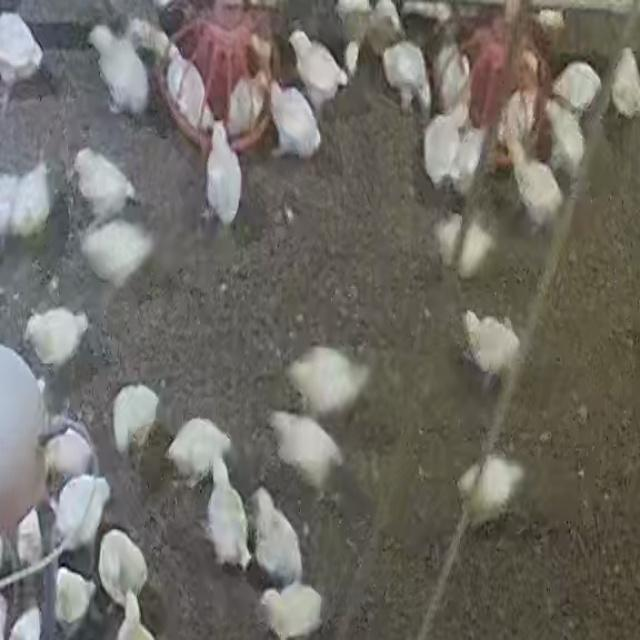chicken: (283, 339, 376, 413), (268, 410, 343, 494), (89, 23, 152, 120), (456, 449, 526, 532), (456, 304, 525, 388), (250, 486, 304, 586), (288, 29, 350, 115), (79, 218, 154, 289), (205, 458, 252, 570), (264, 73, 324, 160), (71, 146, 137, 225), (162, 40, 218, 129), (166, 416, 234, 489), (196, 121, 244, 222), (24, 306, 90, 372), (423, 105, 471, 192), (381, 38, 434, 115), (111, 383, 161, 459), (9, 157, 53, 242), (260, 581, 323, 640), (545, 100, 588, 181), (447, 212, 496, 278), (223, 68, 269, 134), (552, 59, 604, 116), (436, 40, 472, 114), (609, 45, 640, 117)
